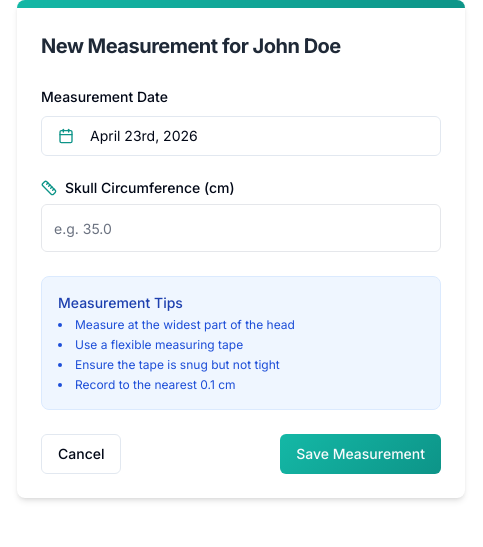
Test: SkullMeasurementForm › shows validation error when submitting without a value
Click the button "Save Measurement" at coordinates (361, 454), box [280,434,441,474]
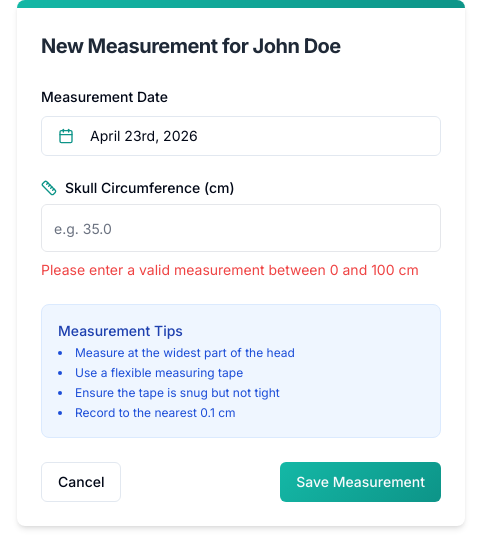
Now the text "Please enter a valid measurement between 0 and 100 cm" is shown, box [41,260,441,280]
